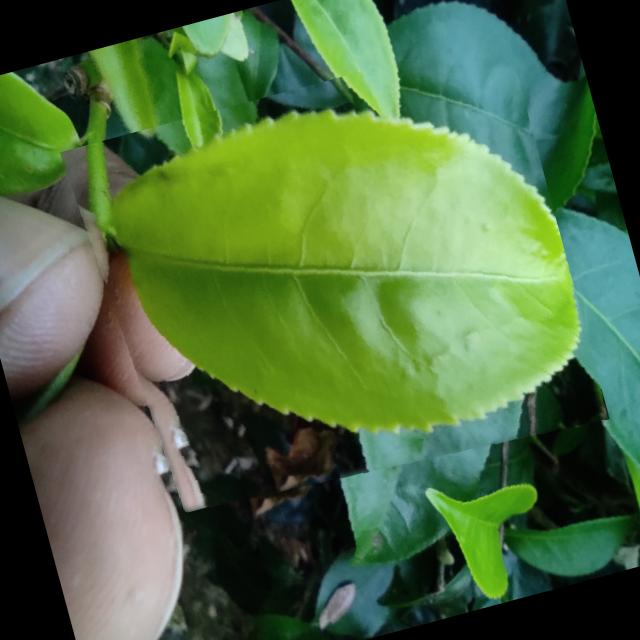Category C(4-7 days): (56, 32, 608, 540)
